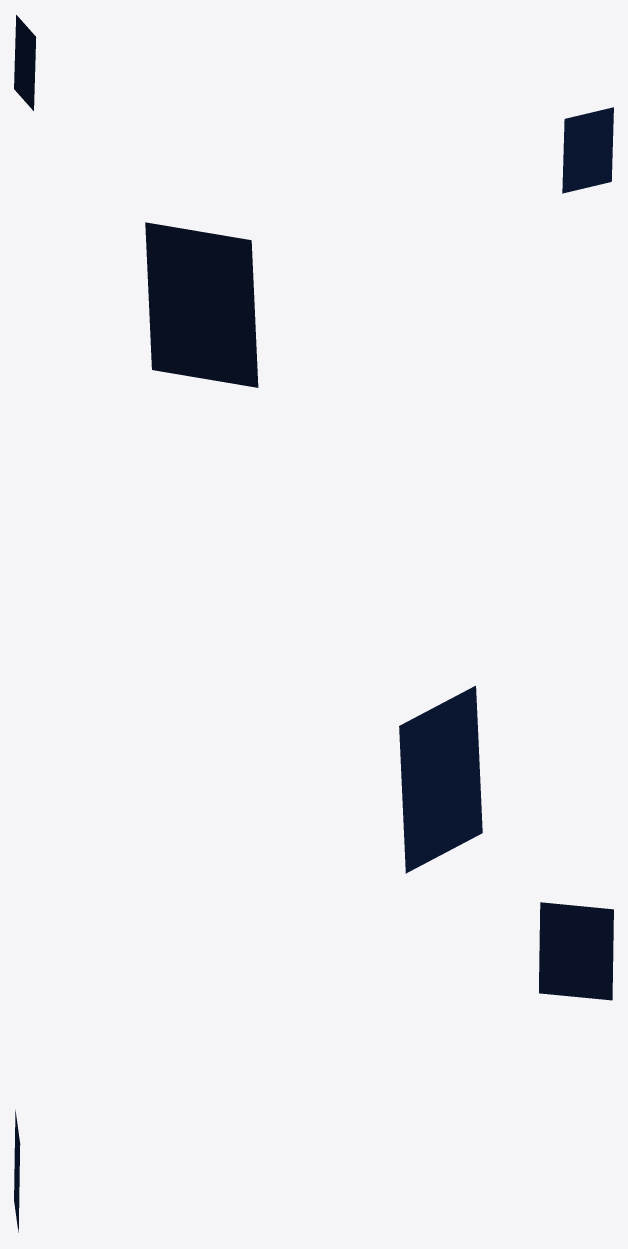
The picture shows the model from 3 angles, top to bottom: view 1: azimuth 30°, elevation 25°; view 2: azimuth 150°, elevation 25°; view 3: azimuth 270°, elevation 25°; orthographic projection. The views are drawn at different scales.
Parts seen in each view (by area): view 1: Cube.744; view 2: Cube.744; view 3: Cube.744.
Boxes of the visible parts, x1=… form: Cube.744: x1=14, y1=15, x2=613, y2=193; Cube.744: x1=145, y1=222, x2=482, y2=873; Cube.744: x1=14, y1=902, x2=613, y2=1232.
Size of the model in its own units: 1420 by 303 by 1563.
